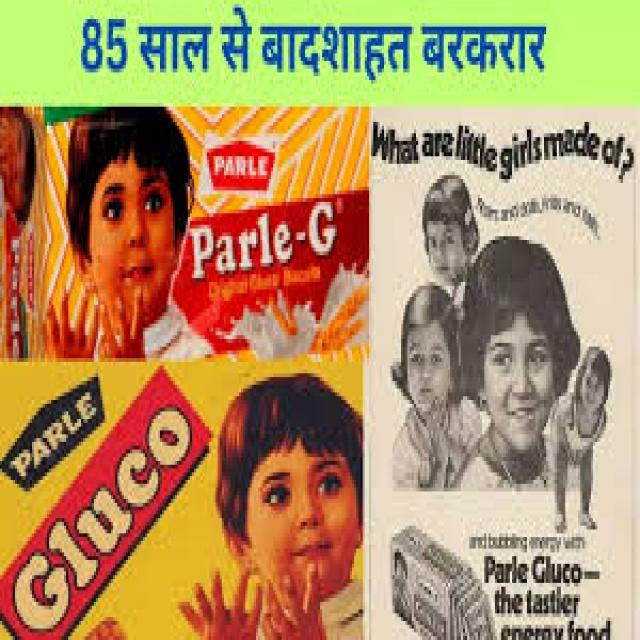parle-g: (0, 106, 369, 354)
